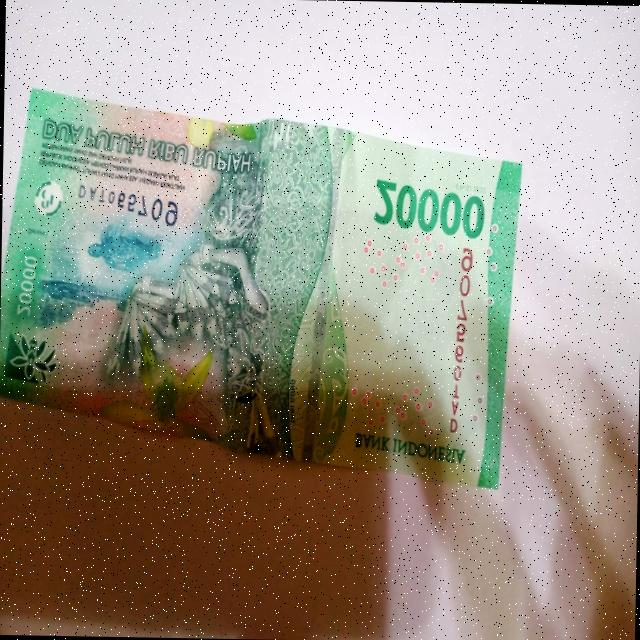20K: (0, 76, 542, 520)
